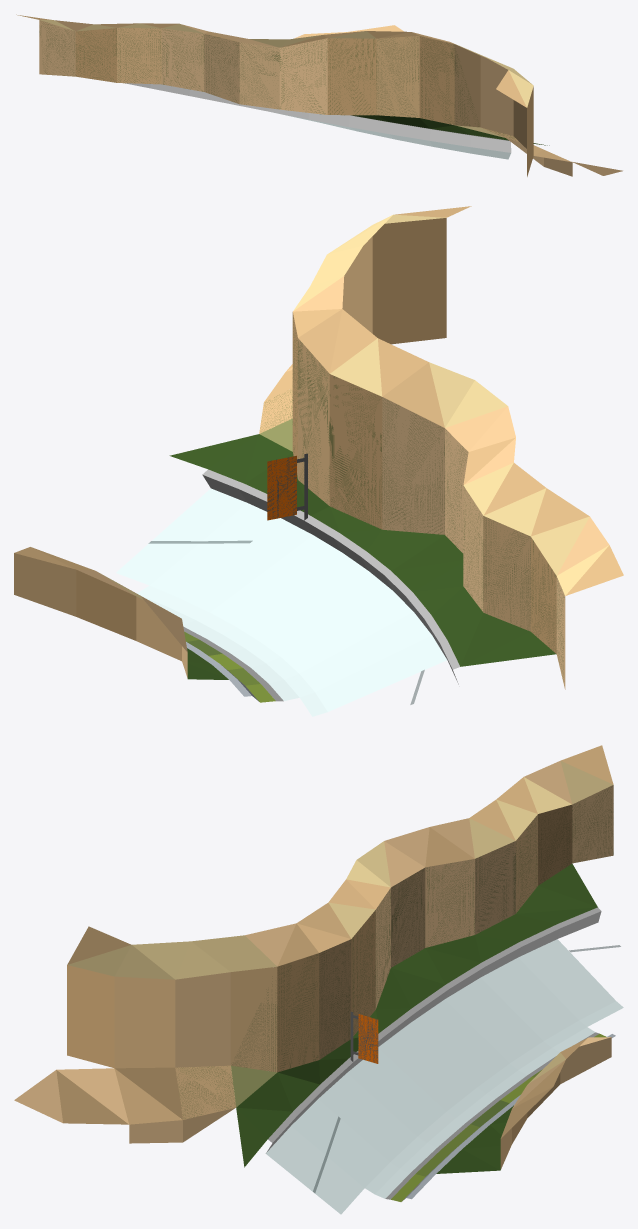
The picture shows the model from 3 angles, top to bottom: view 1: azimuth 30°, elevation 25°; view 2: azimuth 150°, elevation 25°; view 3: azimuth 270°, elevation 25°; orthographic projection. The views are drawn at different scales.
Visible parts, largest first — view 1: O3D2D0; view 2: O3D2D0; view 3: O3D2D0.
Part boxes in pixels (x1=…): O3D2D0: x1=16, y1=14, x2=622, y2=176; O3D2D0: x1=14, y1=206, x2=623, y2=716; O3D2D0: x1=14, y1=745, x2=623, y2=1214.
Bounding box in the file's own units: 98.15 × 39.37 × 99.4.
